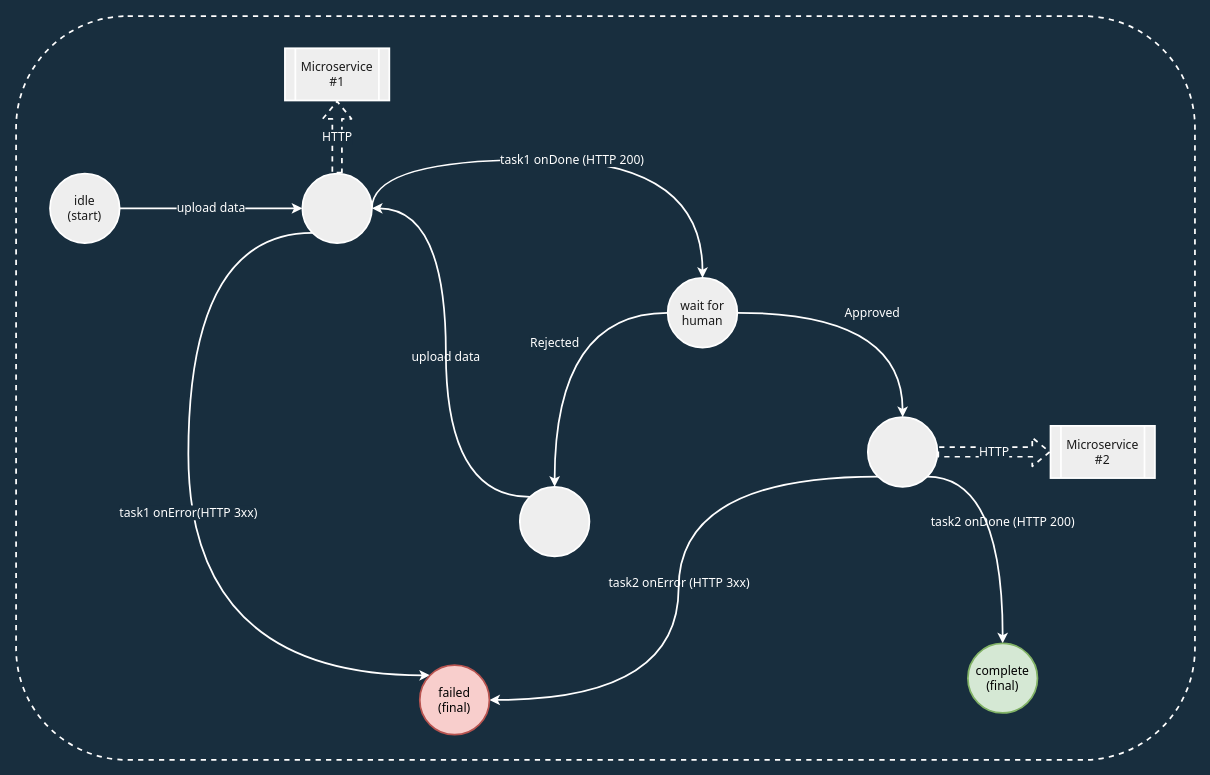
The diagram is 1210 pixels wide and 775 high, and some of its shapes have lost their labels. The shapes that lost their labels are listed below. From the top down, each one's box as (x1, y1, x2, y2) in pixels, then its label:
(301, 172, 372, 244): task1
(867, 416, 938, 487): task2
(519, 485, 590, 557): qc failed
